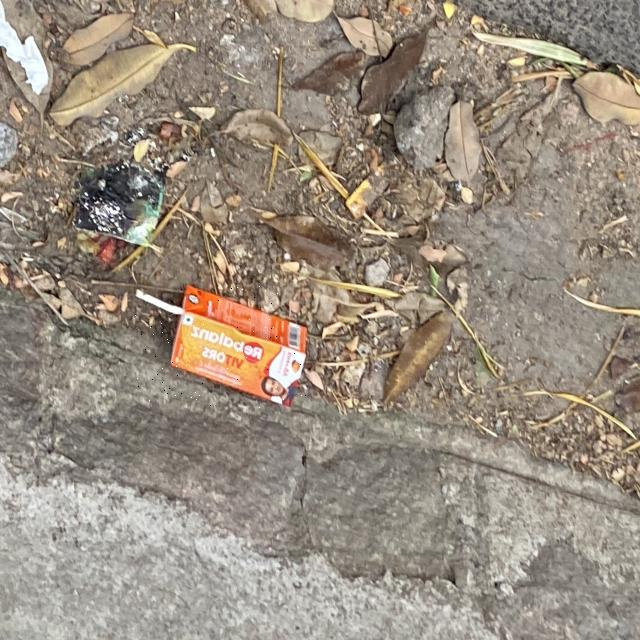paper: (136, 286, 306, 408)
